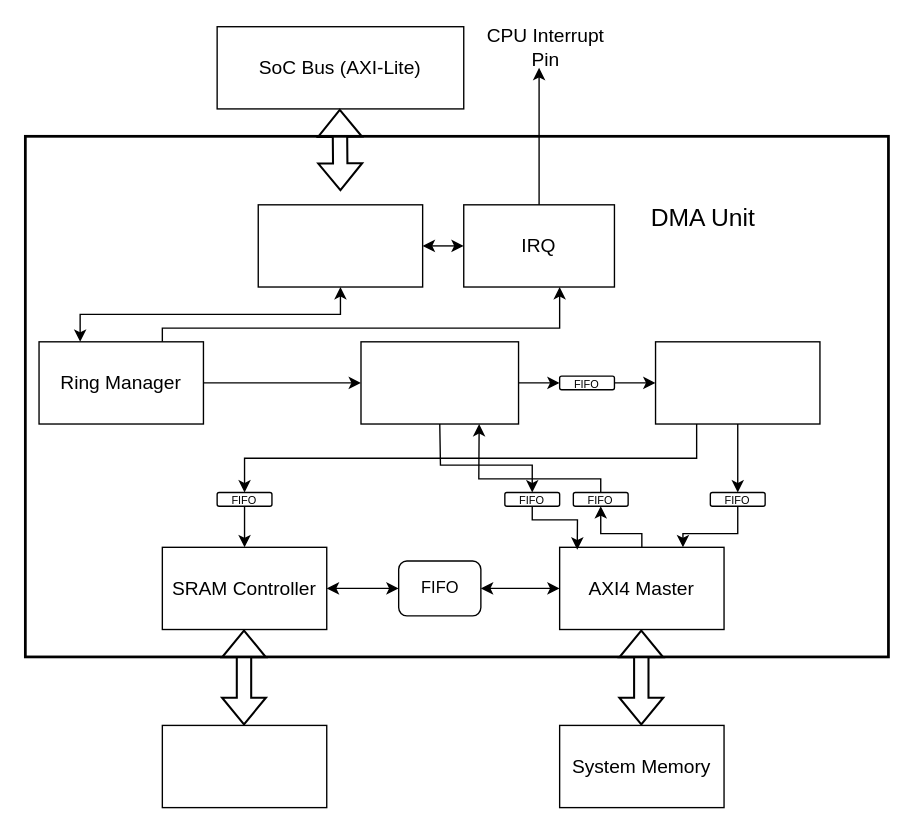
Image size: 912x832. Some labels were removed from this diagram. The shapes that lost their labels are listed below. From the top down, each one's centre as x and y in pixels, then its label:
At (340,245): "CSR".
At (439,382): "Descriptor Fetcher".
At (737,382): "Data Mover".
At (244,766): "SRAM".
